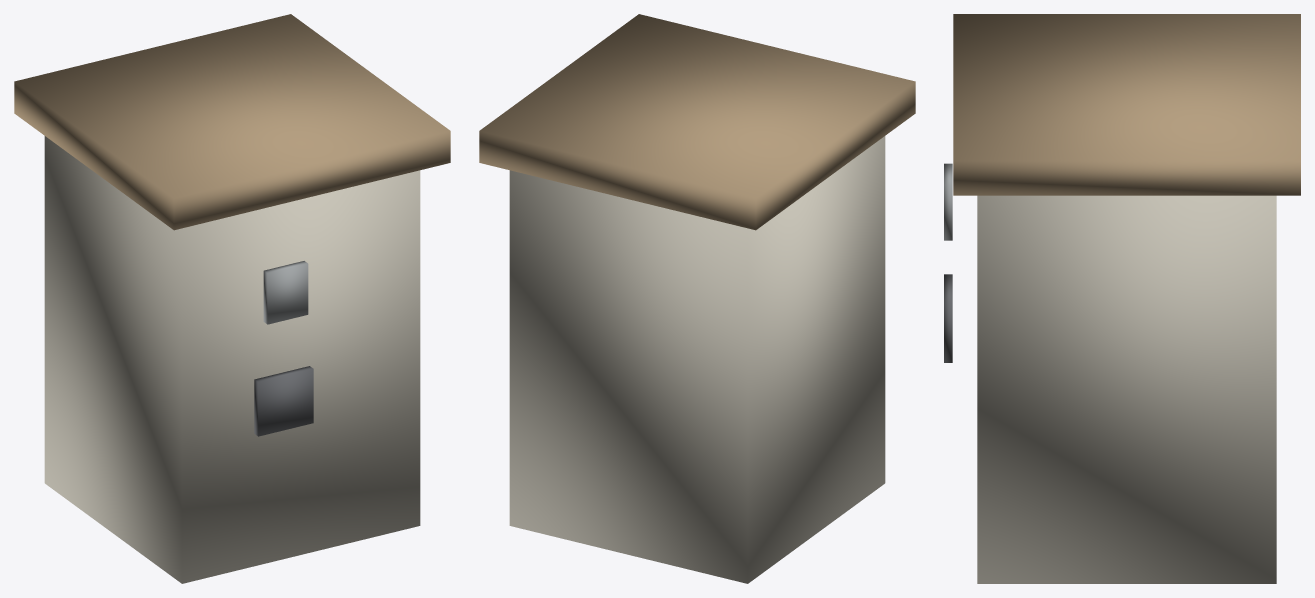
File: museum_display_plinth__weathered.glb
3 renders of one model, left to right at view 1: azimuth 30°, elevation 25°; view 2: azimuth 150°, elevation 25°; view 3: azimuth 270°, elevation 25°, orthographic. The views are drawn at different scales.
Parts seen in each view (by area): view 1: world; view 2: world; view 3: world.
Part boxes in pixels (x1,y1,x2,y2): world: (14,14,450,583); world: (479,14,915,583); world: (944,14,1300,583).
Size of the model in its own units: 0.72 by 0.99 by 0.7391.
